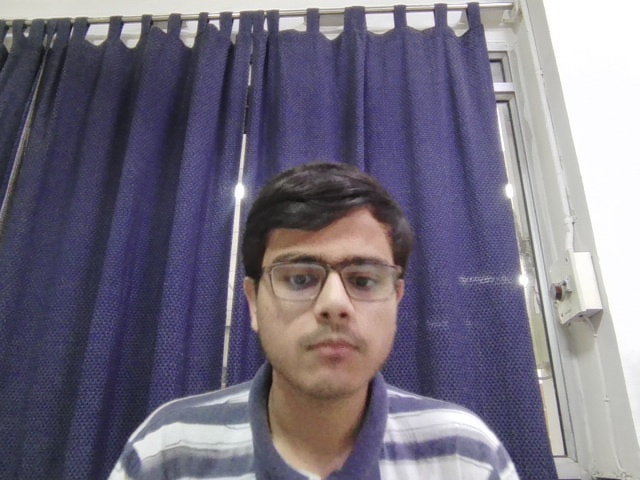face: (244, 158, 412, 397)
